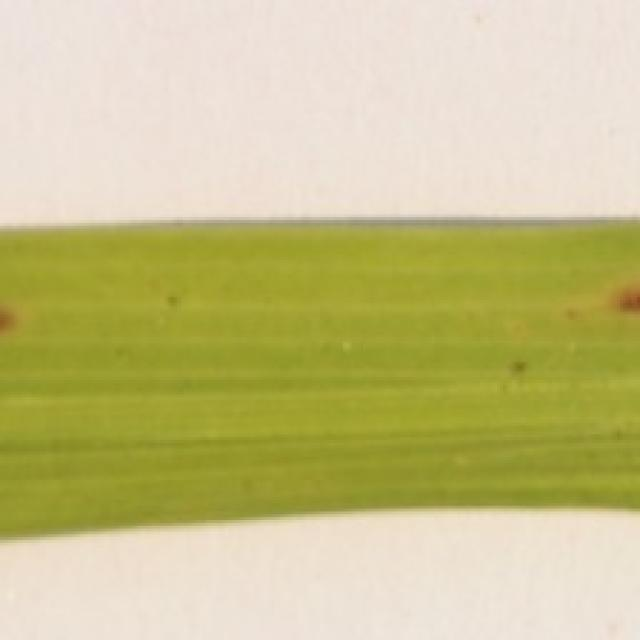Rice___Brown_Spot: (2, 218, 637, 539)
